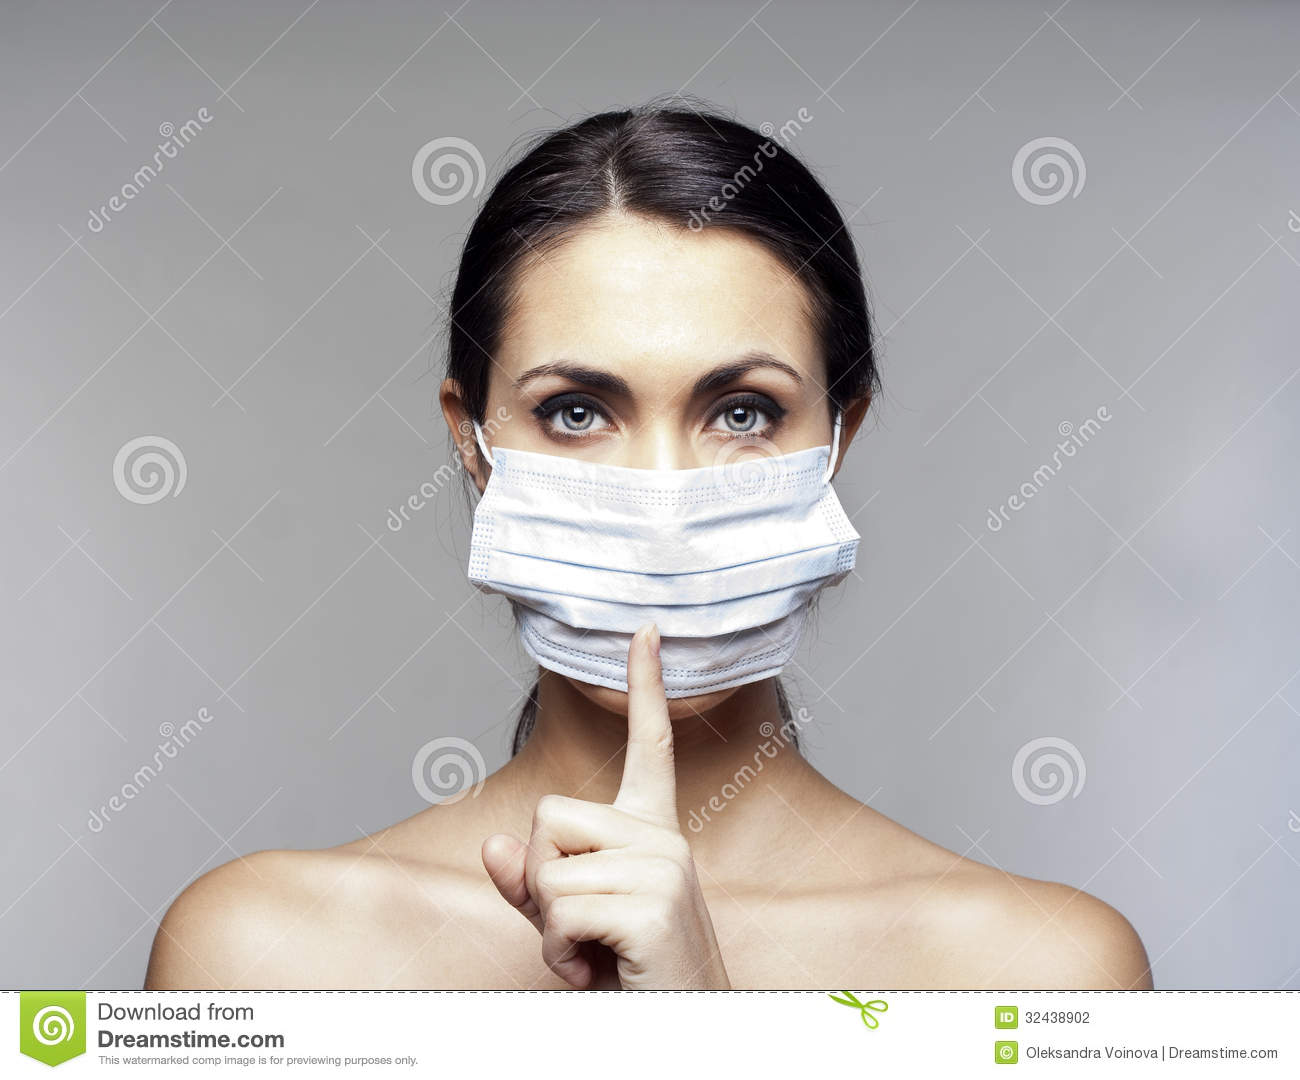mask: (477, 450, 861, 703)
